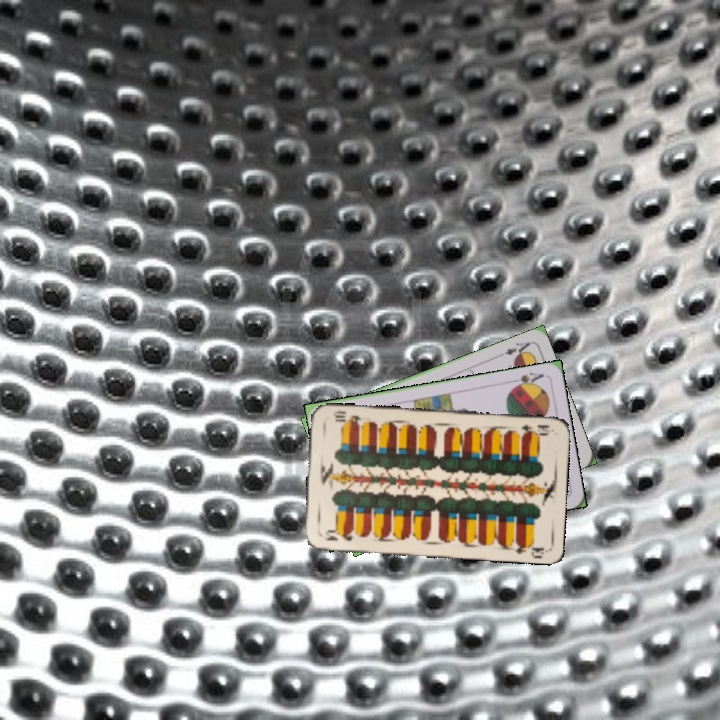E10: (517, 420, 553, 438), (321, 527, 356, 543)
EA: (494, 338, 533, 360)
SA: (507, 368, 546, 392)
